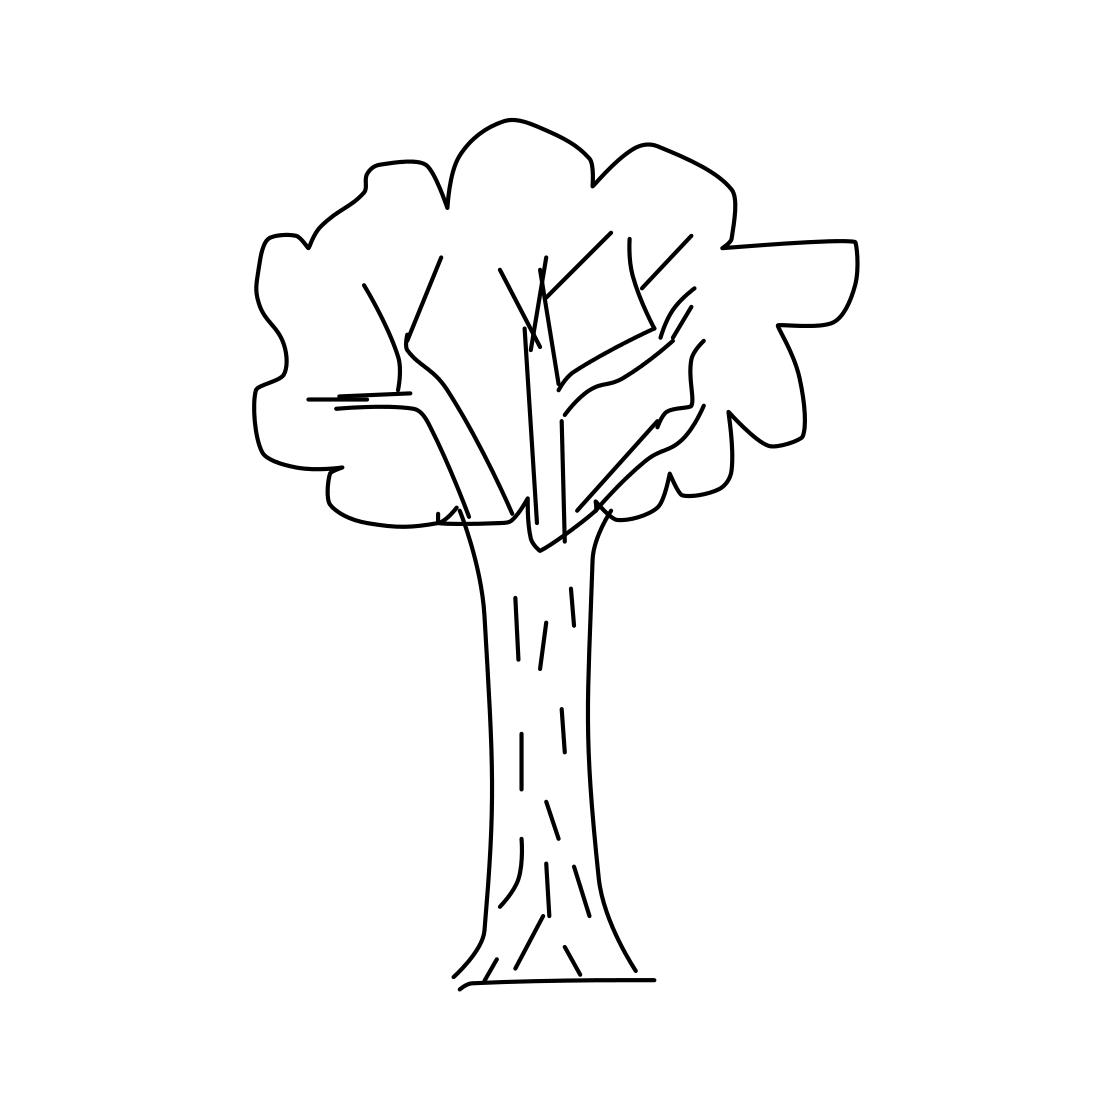Tree: (222, 87, 891, 1015)
